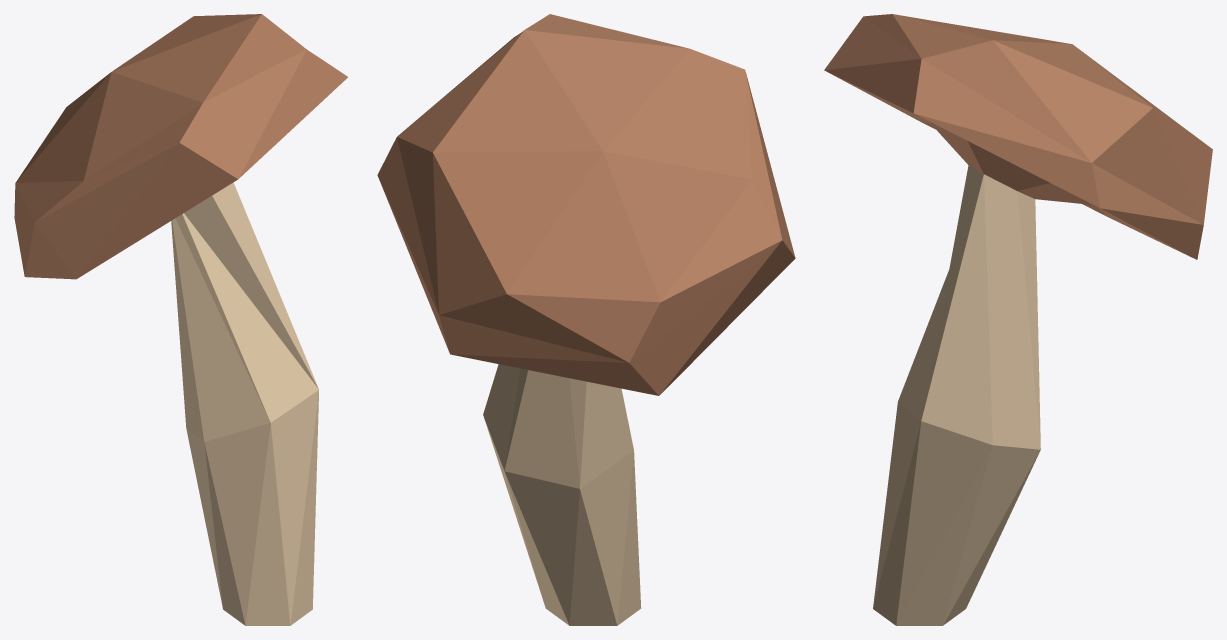
File: Mushroom 7_4.fbx
3 renders of one model, left to right at view 1: azimuth 30°, elevation 25°; view 2: azimuth 150°, elevation 25°; view 3: azimuth 270°, elevation 25°, orthographic. The views are drawn at different scales.
Parts seen in each view (by area): view 1: Mushroom 7_4; view 2: Mushroom 7_4; view 3: Mushroom 7_4.
Part boxes in pixels (x1,y1,x2,y2): Mushroom 7_4: (14, 14, 347, 625); Mushroom 7_4: (377, 14, 795, 625); Mushroom 7_4: (824, 14, 1212, 625).
Bounding box in the file's own units: 0.1586 × 0.2653 × 0.1602.
